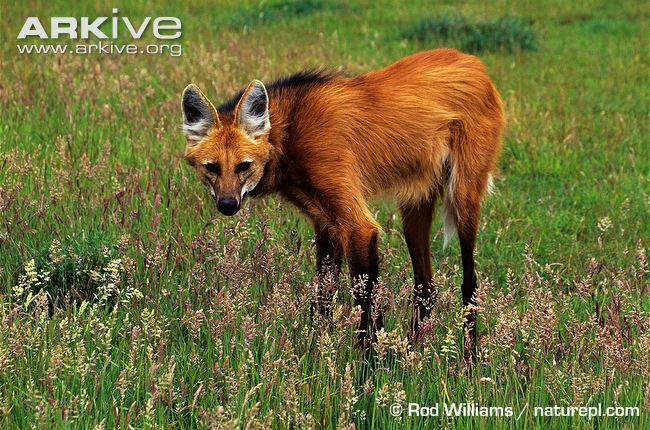LoboGuara: (170, 60, 523, 301)
